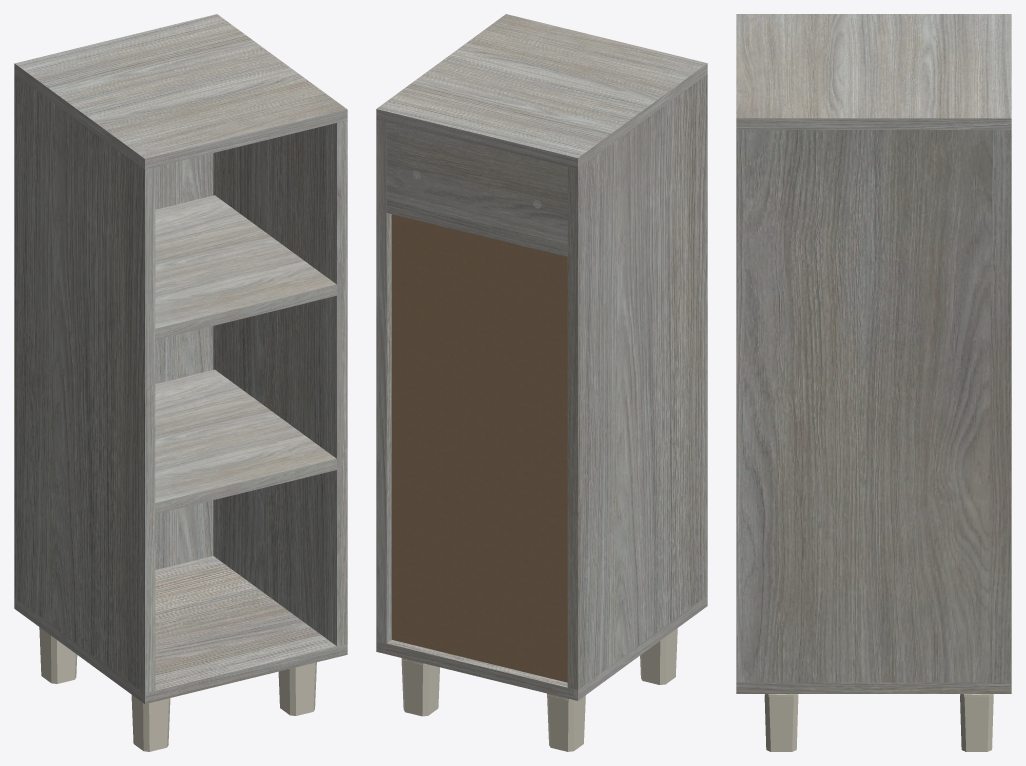
3 views of the same model, side by side, from view 1: azimuth 30°, elevation 25°; view 2: azimuth 150°, elevation 25°; view 3: azimuth 270°, elevation 25° (orthographic). The views are drawn at different scales.
Parts seen in each view (by area): view 1: Cube, Cube.006, Cube.005, group_0.001, group_0.002, group_0.365, Cube.002, Cube.001, Cube.003; view 2: Cube, group_0.365, Cube.006, Cube.005, Cube.003, Cube.004, Cube.002; view 3: Cube, Cube.006, Cube.005, Cube.004, Cube.001.
Boxes of the visible parts, x1,y1,x2,y2 form: Cube: [14, 74, 347, 692]; Cube.006: [14, 14, 347, 169]; Cube.005: [14, 556, 347, 703]; group_0.001: [155, 195, 336, 339]; group_0.002: [155, 369, 336, 514]; group_0.365: [155, 153, 213, 569]; Cube.002: [131, 695, 170, 751]; Cube.001: [278, 662, 316, 715]; Cube.003: [39, 627, 77, 683]; Cube: [376, 74, 707, 689]; group_0.365: [391, 214, 567, 682]; Cube.006: [376, 14, 707, 168]; Cube.005: [376, 595, 707, 700]; Cube.003: [547, 693, 585, 751]; Cube.004: [401, 658, 439, 716]; Cube.002: [640, 628, 677, 684]; Cube: [736, 130, 1011, 682]; Cube.006: [736, 14, 1011, 129]; Cube.005: [736, 682, 1011, 693]; Cube.004: [960, 694, 993, 751]; Cube.001: [764, 694, 798, 751].
Bounding box in the file's own units: 0.35 × 1 × 0.3904.
Materials: 7 (2 with a texture image).
